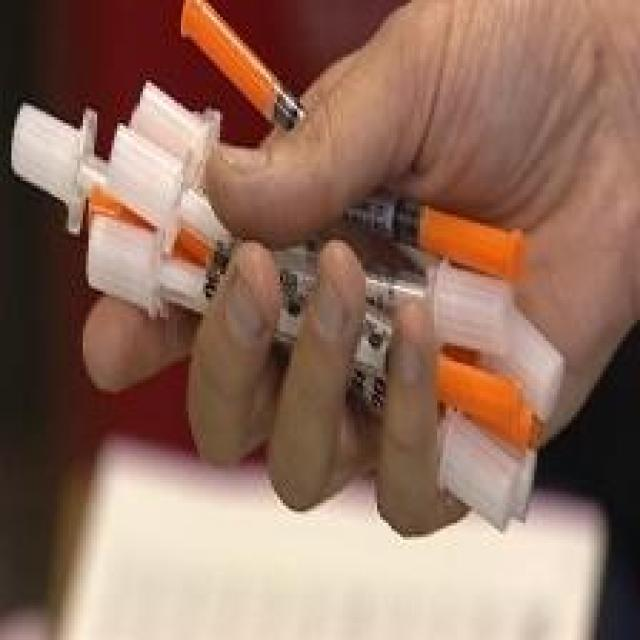syringe: (52, 16, 590, 499)
